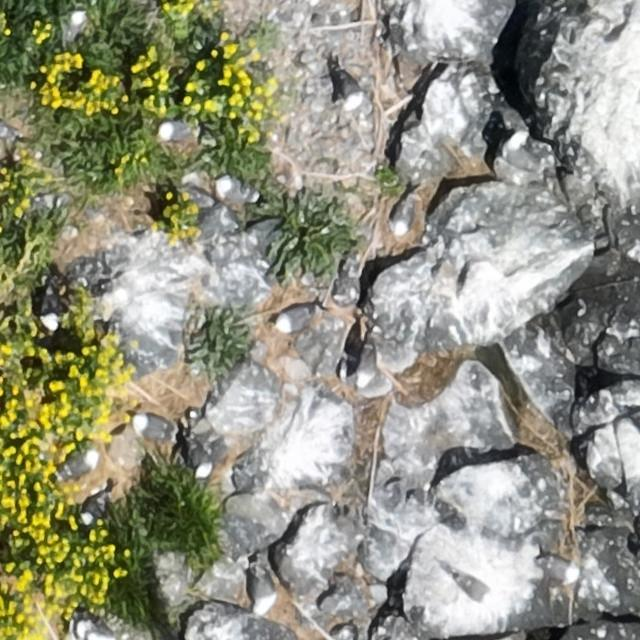umineko: (501, 130, 539, 173), (390, 186, 422, 234), (335, 69, 367, 111), (356, 330, 377, 387), (540, 555, 578, 583), (60, 449, 97, 476), (214, 180, 253, 203), (252, 574, 274, 614), (278, 305, 313, 329), (81, 493, 107, 525), (41, 287, 60, 329), (134, 415, 167, 437), (459, 577, 492, 599), (160, 122, 191, 142), (66, 10, 83, 41), (195, 452, 212, 479), (0, 122, 16, 142)
